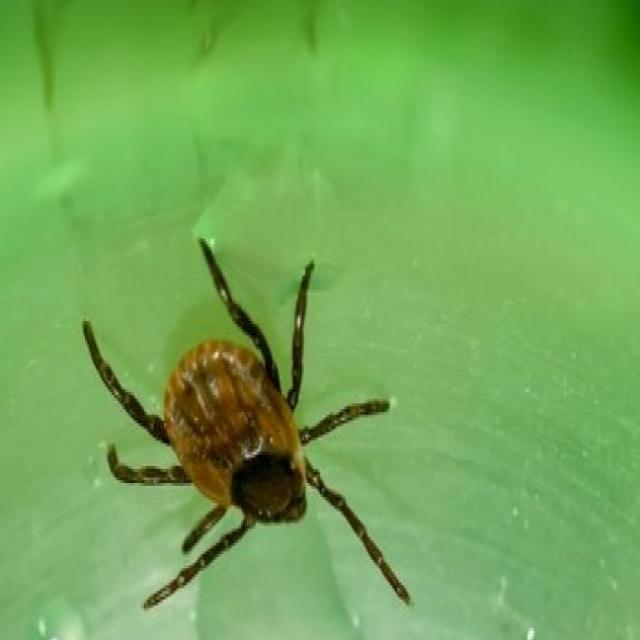Rhipicephalus Sanguineus-F: (83, 236, 412, 611)
